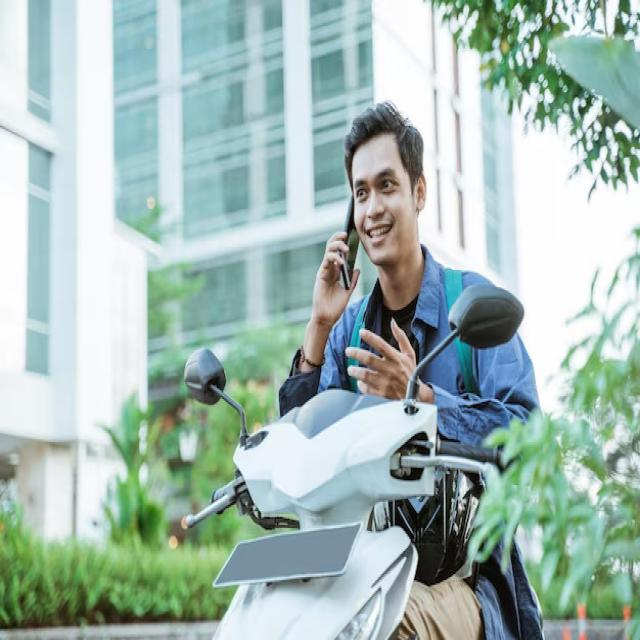USING_MOBILE: (279, 194, 355, 390)
